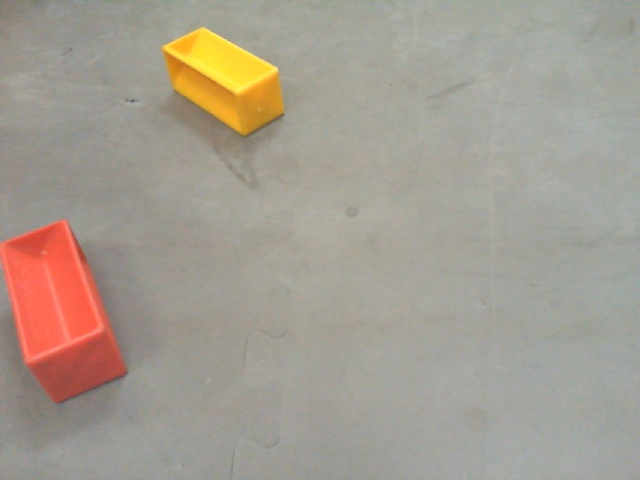RedSample: (3, 215, 128, 406)
YellowSample: (159, 23, 286, 141)
